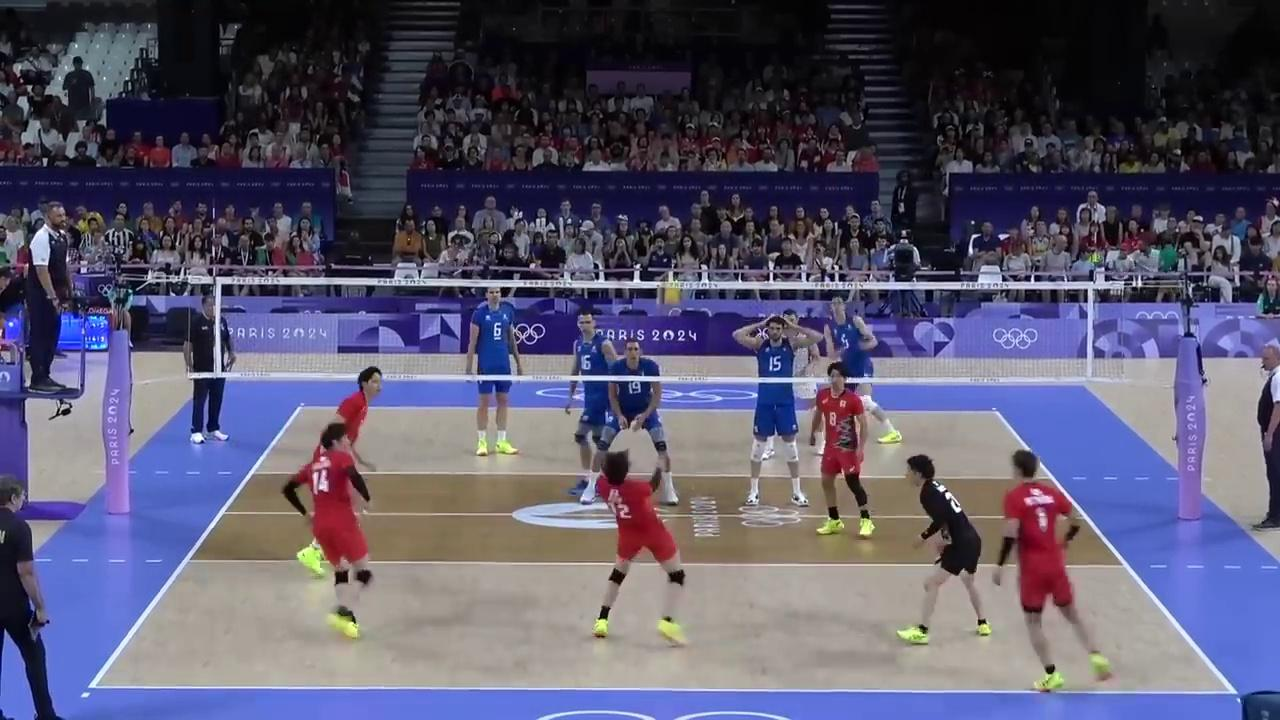ball: (660, 288, 682, 308)
